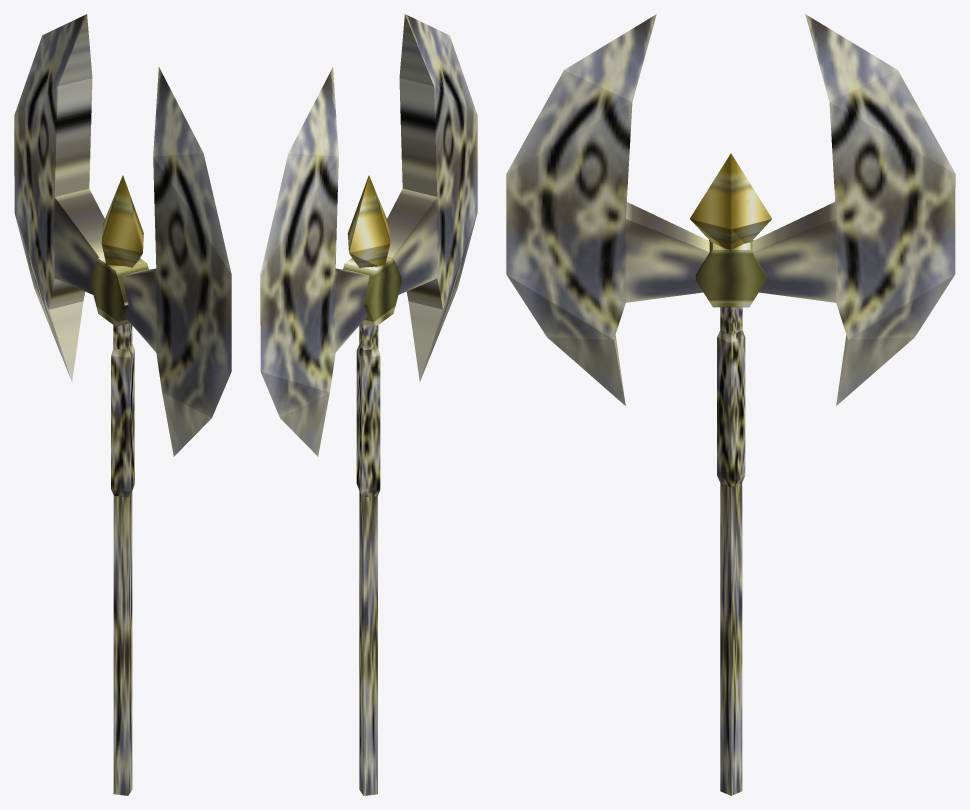
File: heavyaxeman02_5.obj
3 views of the same model, side by side, from view 1: azimuth 30°, elevation 25°; view 2: azimuth 150°, elevation 25°; view 3: azimuth 270°, elevation 25° (orthographic). The views are drawn at different scales.
Visible parts, largest first — view 1: heavyaxeman02_5; view 2: heavyaxeman02_5; view 3: heavyaxeman02_5.
Part boxes in pixels (<box>): heavyaxeman02_5: <box>14,14,231,795</box>; heavyaxeman02_5: <box>260,14,477,795</box>; heavyaxeman02_5: <box>506,14,955,795</box>.
Size of the model in its own units: 0.1638 by 2.77 by 1.45.
